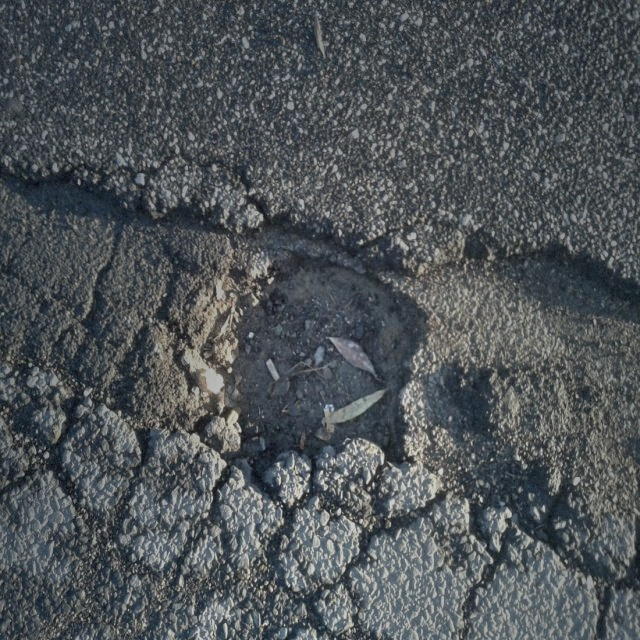pothole: (166, 171, 430, 513)
